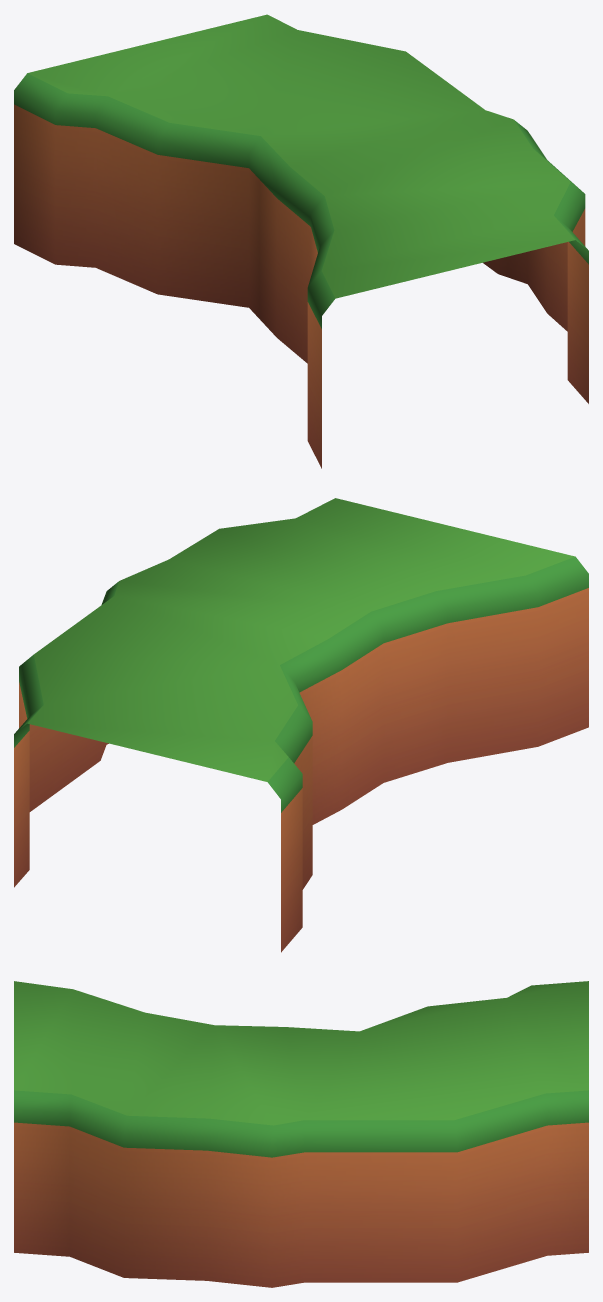
Rendered from Straight L Path 03.FBX.
The picture shows the model from 3 angles, top to bottom: view 1: azimuth 30°, elevation 25°; view 2: azimuth 150°, elevation 25°; view 3: azimuth 270°, elevation 25°; orthographic projection. The views are drawn at different scales.
Visible parts, largest first — view 1: Straight L Path 03; view 2: Straight L Path 03; view 3: Straight L Path 03.
Boxes of the visible parts, box(x1,y1,x2,y2) form: Straight L Path 03: box(14, 14, 588, 468); Straight L Path 03: box(14, 498, 588, 952); Straight L Path 03: box(14, 981, 588, 1287).
Bounding box in the file's own units: 644 × 300 × 1000.
Materials: 1 (1 with a texture image).
